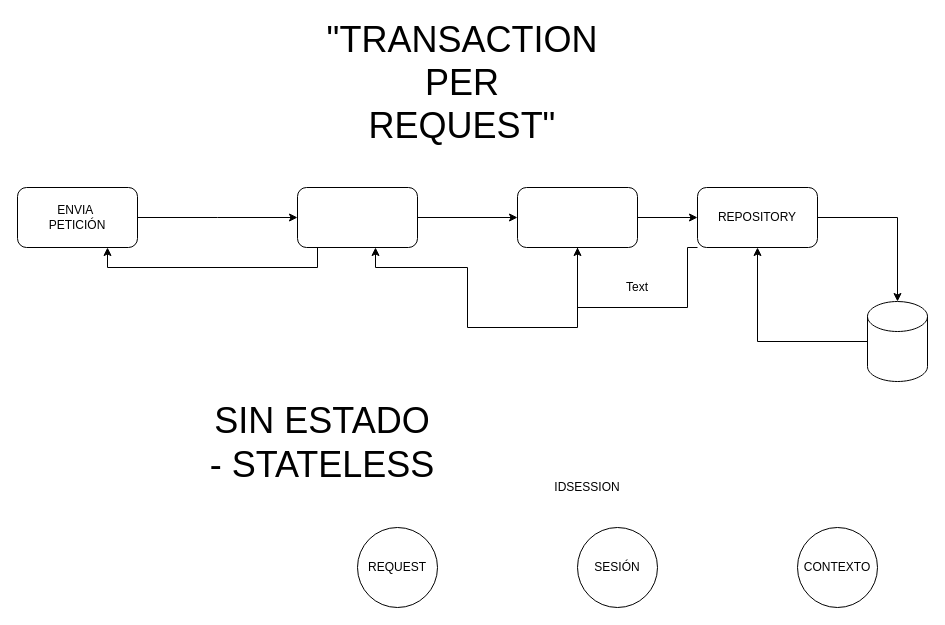
This 945x625 diagram has some shape labels left out. Here are the shapes that lost their labels. From the top down, the centre of each, then its label:
At (357,217): "CONTROLLER".
At (577,217): "SERVICE".
